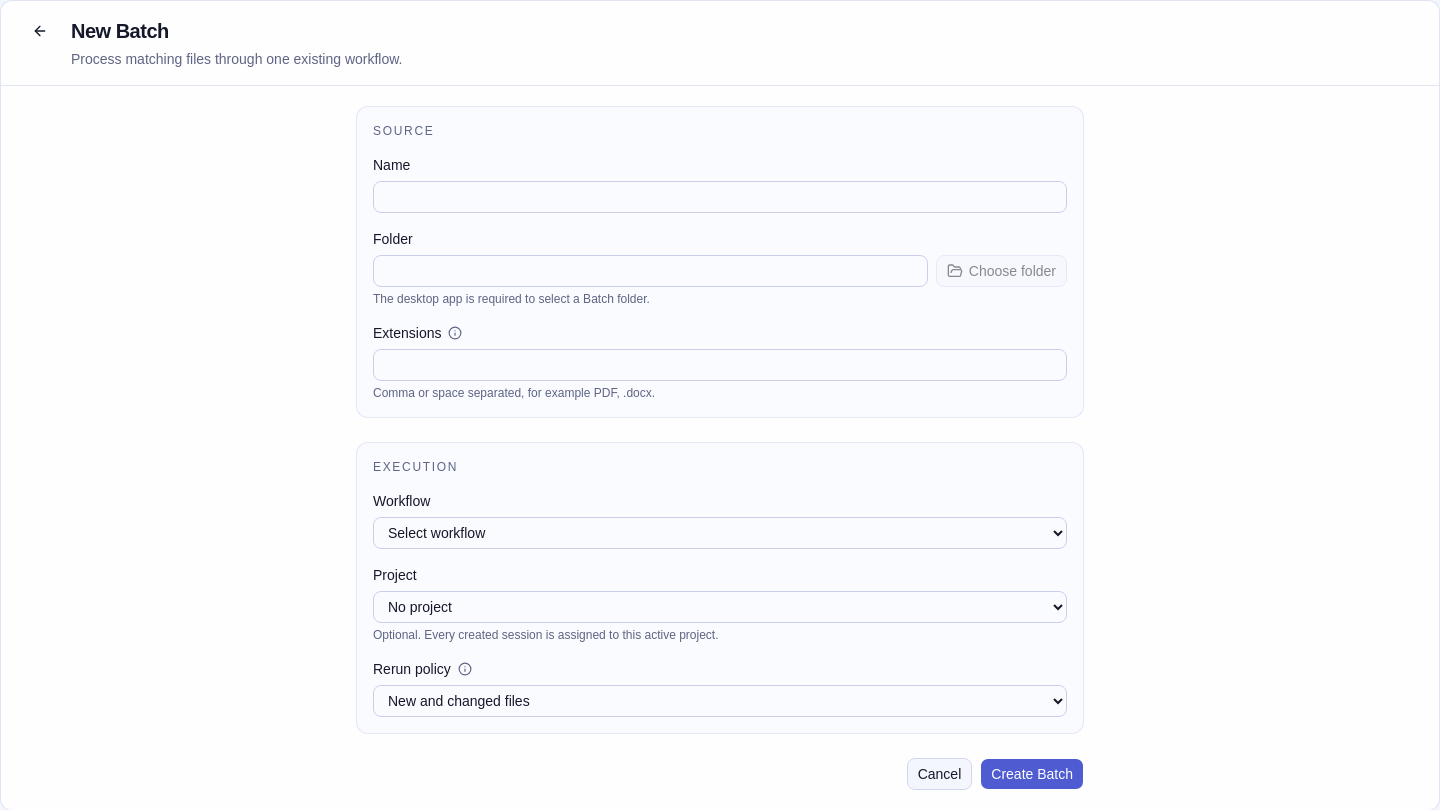
it: BatchForm › explains the extension filter through an accessible information tooltip
The image size is (1440, 810).
Step 1. Hover over the button named "Help: file extensions" → coordinates (456, 333), box [446, 323, 466, 343]
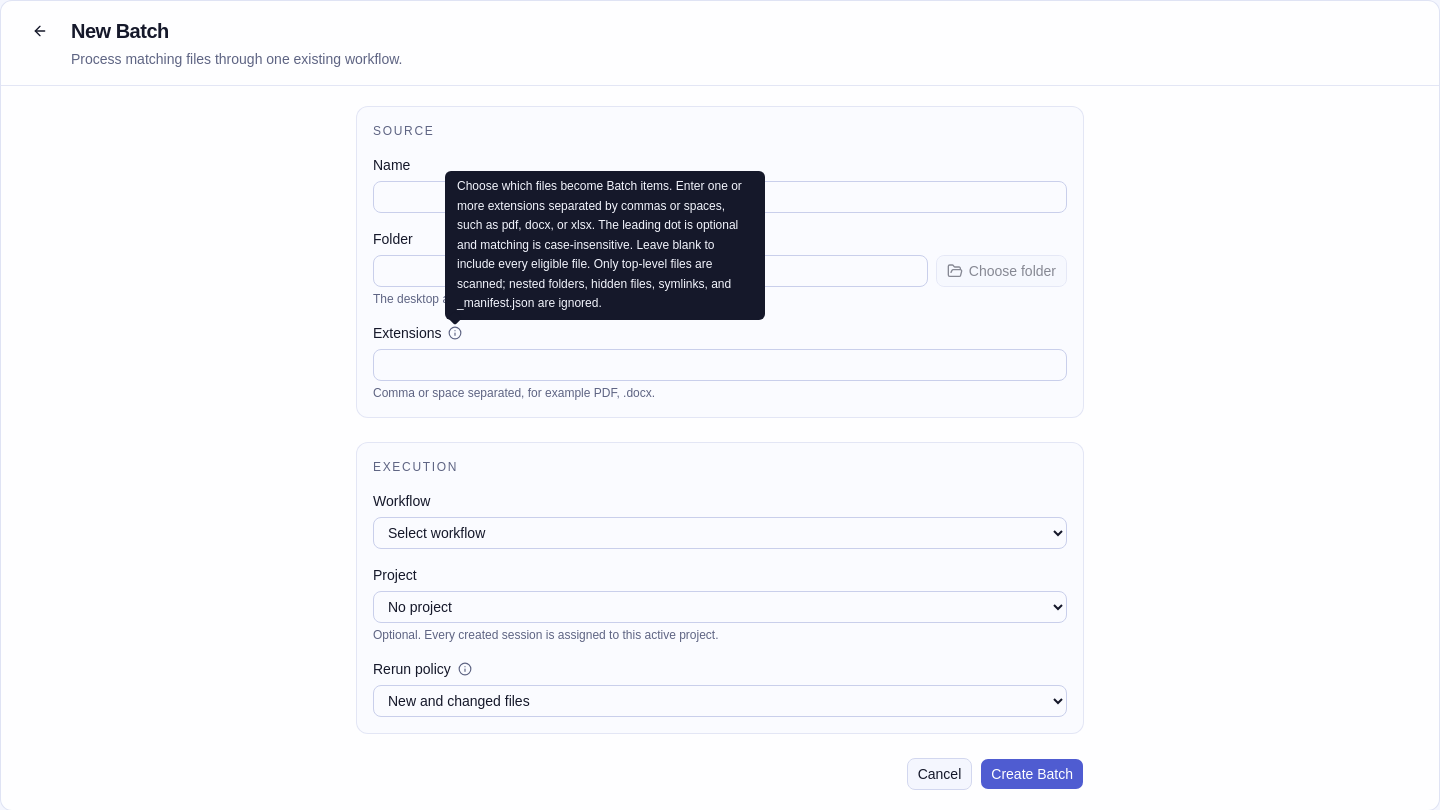
Result: the text "Choose which files become Batch items" shows "Leave blank to include every eligible file" at [457, 179, 742, 310]
Result: the text "Choose which files become Batch items" shows "nested folders, hidden files, symlinks, and _manifest.json are ignored" at [457, 179, 742, 310]
